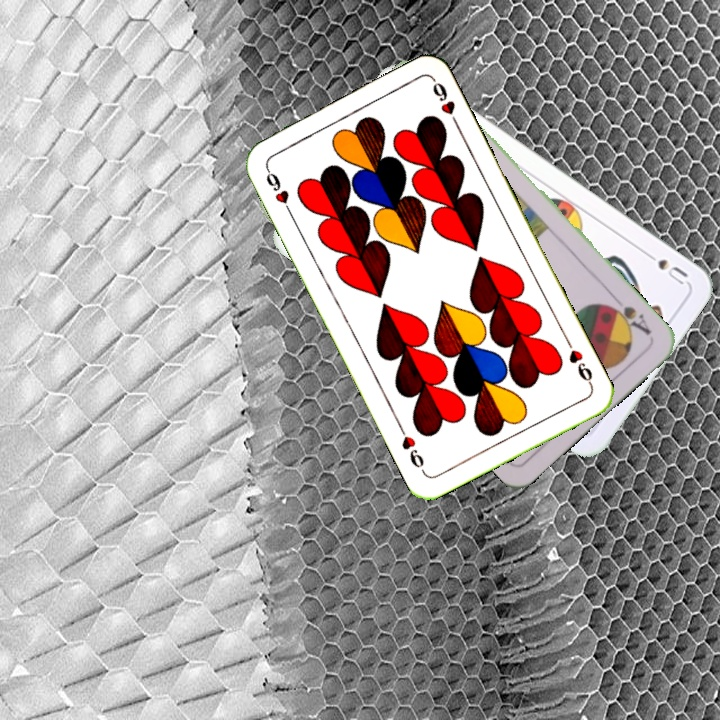H9: (561, 335, 596, 389), (261, 163, 295, 218)
SA: (603, 300, 654, 338)
SU: (638, 246, 691, 288)
